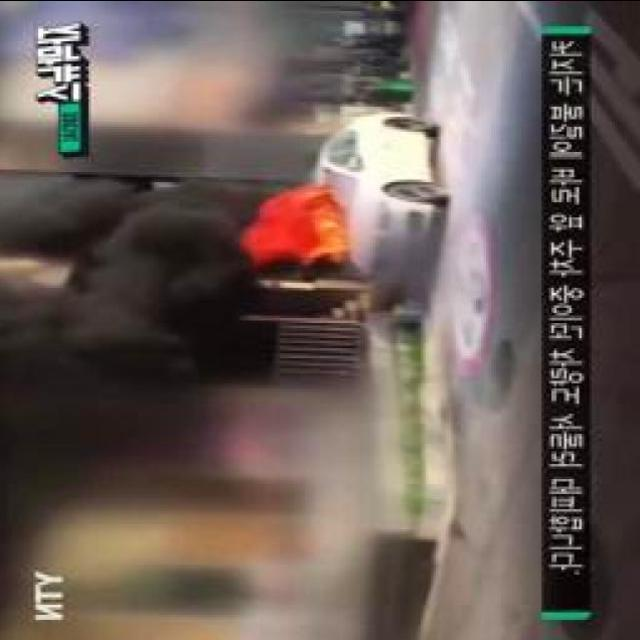Fire: (251, 196, 345, 260)
